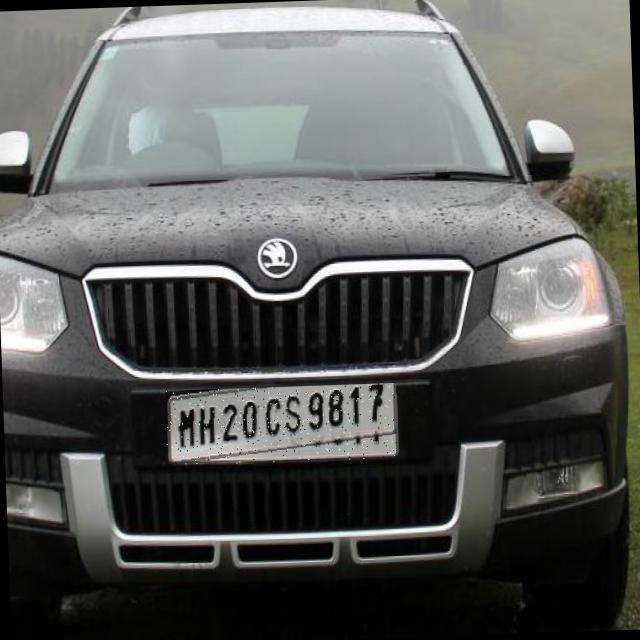Plate: (166, 384, 399, 467)
